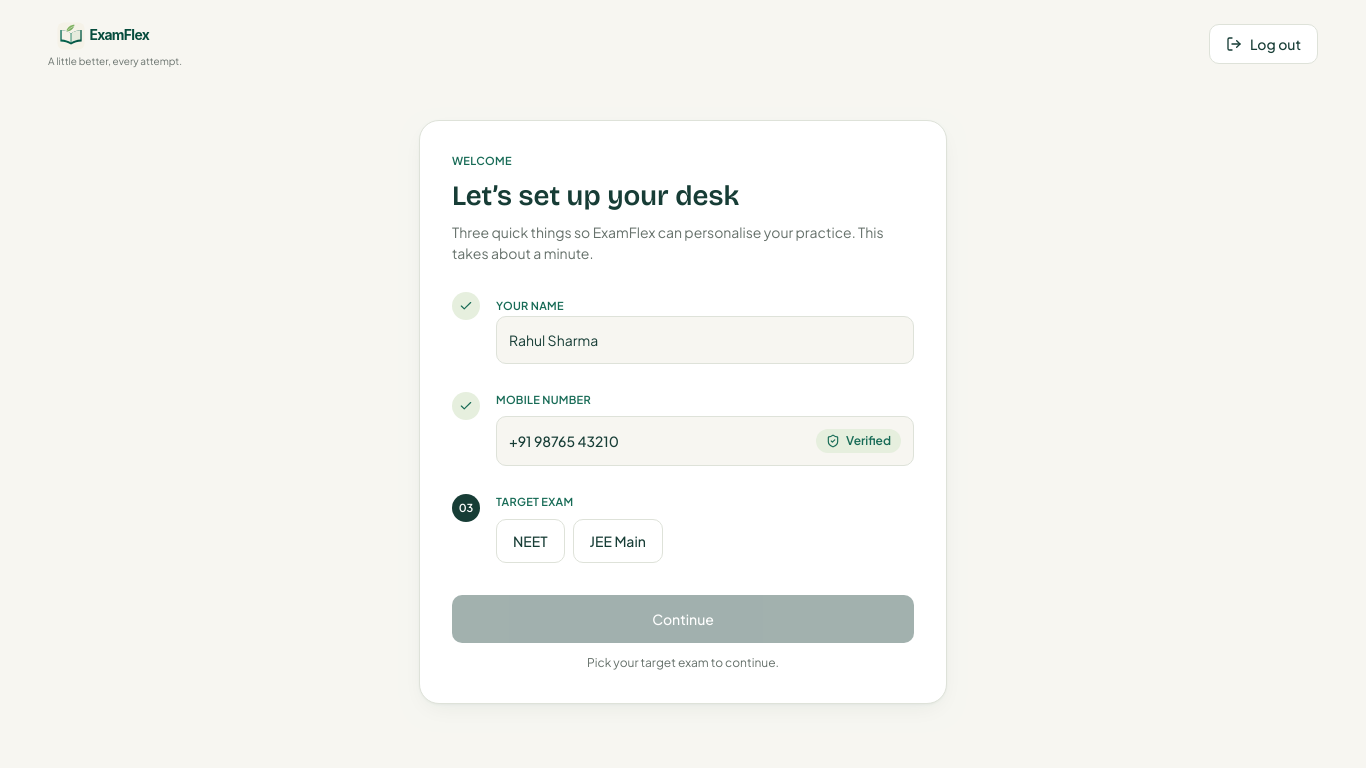
OnboardingScreen › name › shows a problem only after the learner leaves the field
Replace the text in the field labelled "Your name" with "R@hul": (705, 340) [496, 316, 914, 364]
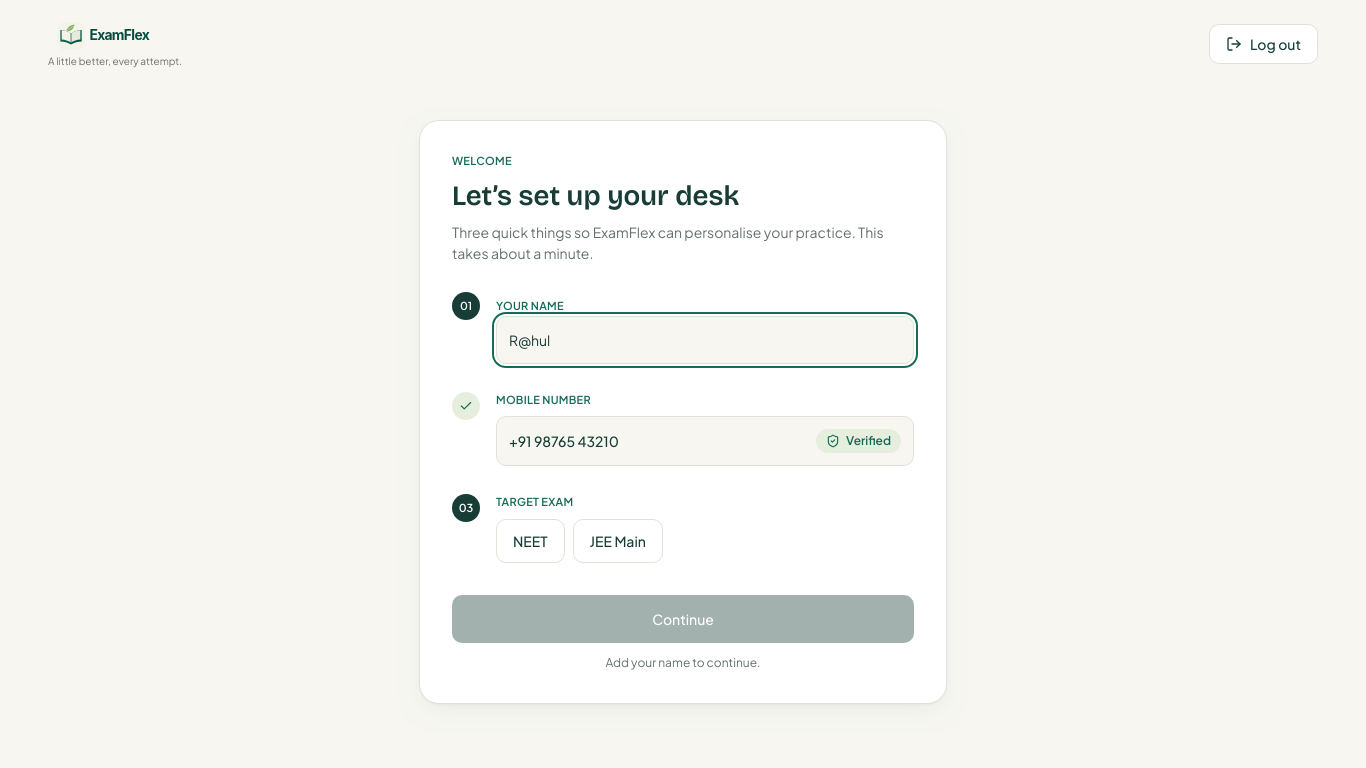
Press Tab
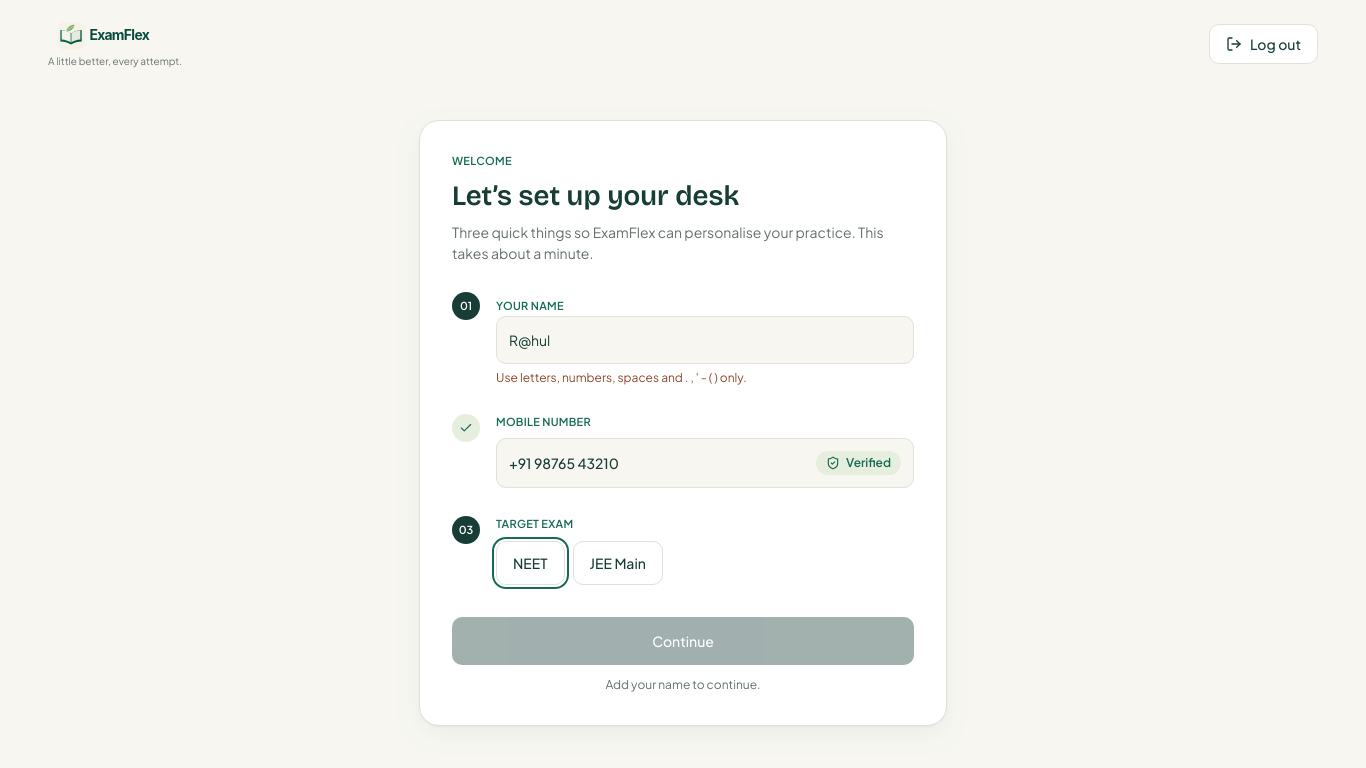
Expected: the message shows "letters, numbers, spaces", [496, 370, 747, 385]
